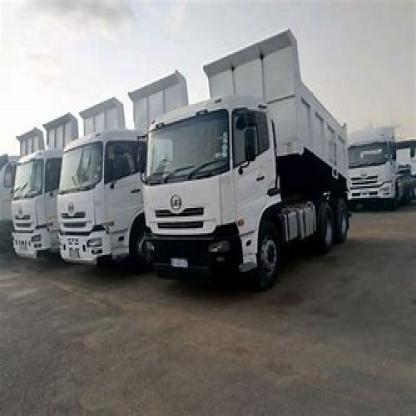dump_truck: (146, 45, 350, 285), (54, 104, 150, 287), (1, 123, 65, 270), (347, 112, 415, 213)
